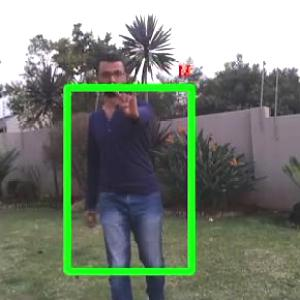takeoff-hand: (99, 76, 150, 125)
